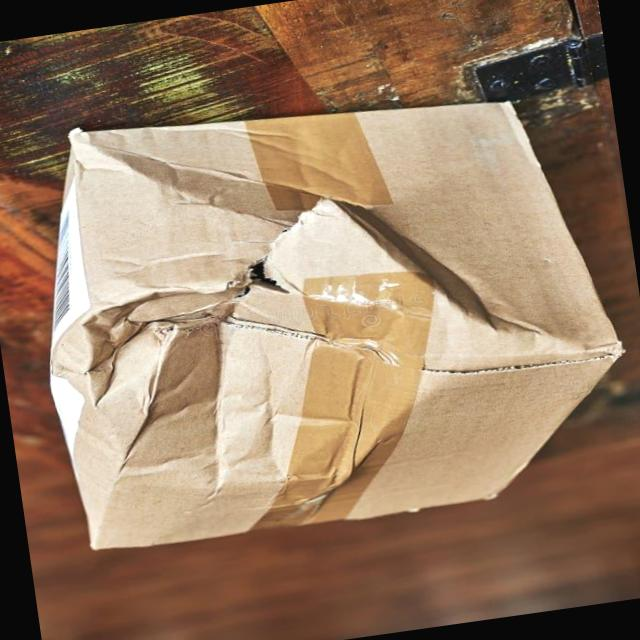Garbage: (2, 48, 640, 574)
